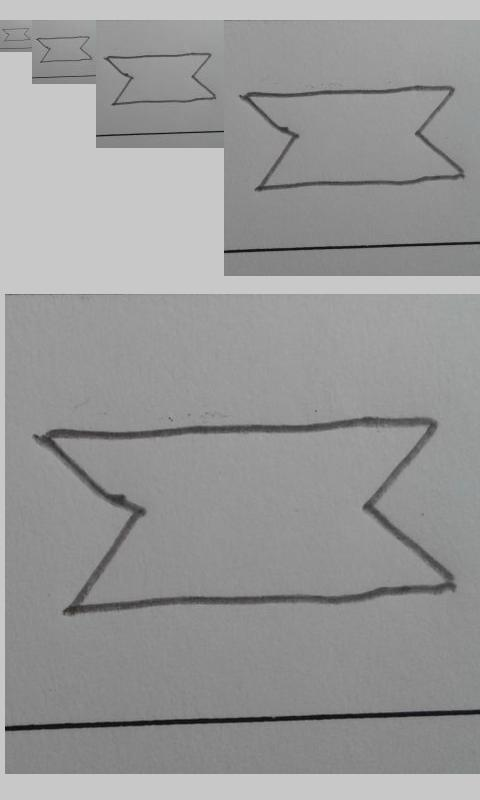edit_text: (40, 416, 454, 618), (242, 85, 466, 191), (105, 51, 217, 106), (37, 36, 92, 63), (2, 28, 31, 42)
